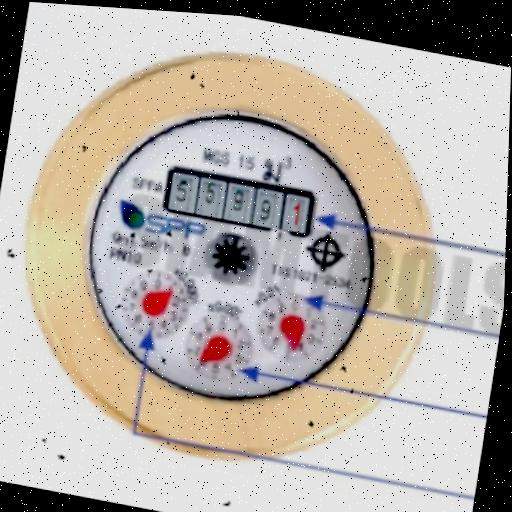1: (287, 199, 307, 232)
5: (171, 177, 193, 212), (200, 182, 220, 218)
9: (227, 187, 249, 222), (257, 193, 277, 228)
border_water_meter_number: (161, 164, 319, 241)
